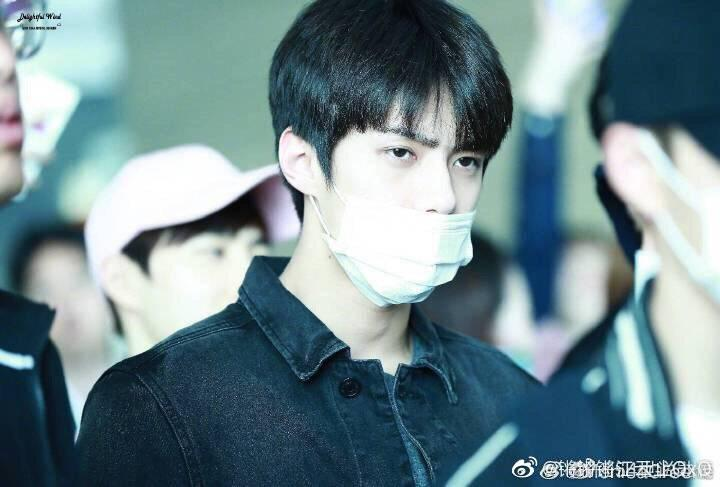NONE: (156, 216, 278, 367)
WRONG: (337, 107, 485, 307)
